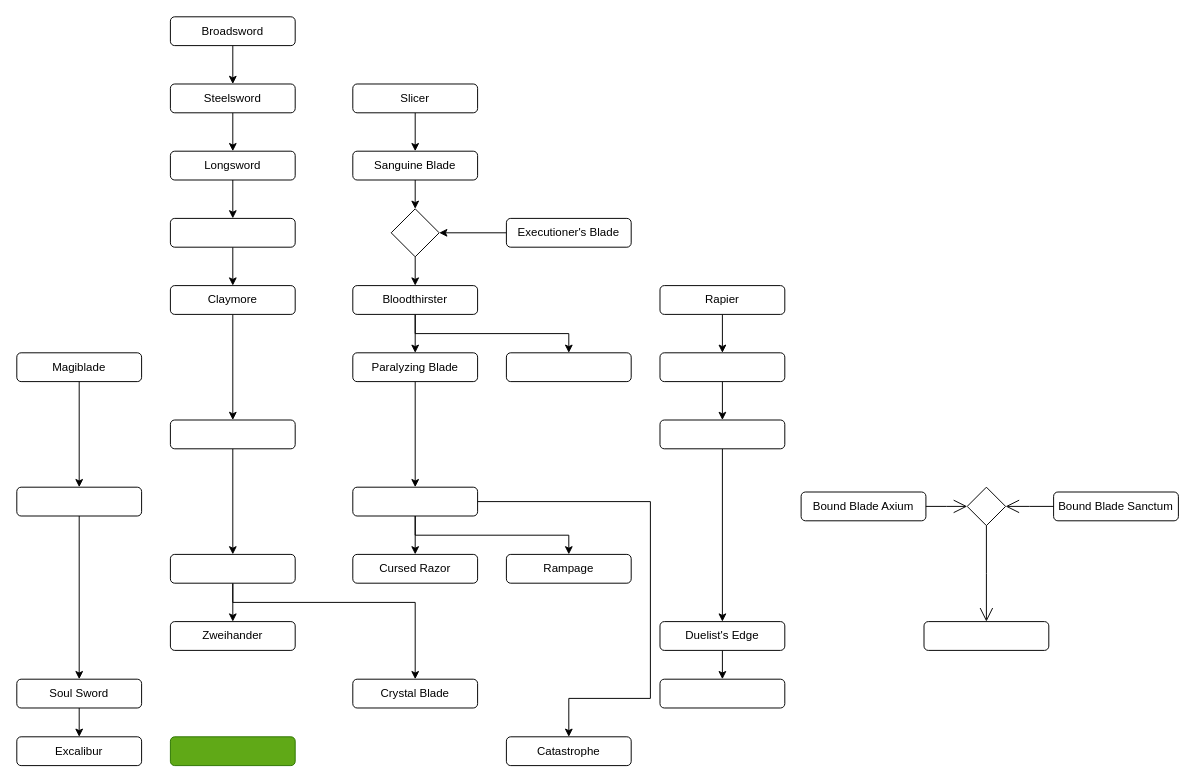
This 1195x782 diagram has some shape labels left out. The box of each missing label's shape, as (x1, y1, x2, y2) in pixels:
Alankhrem: (923, 621, 1049, 650)
Ascalon: (659, 678, 785, 708)
Bastard Sword: (169, 217, 295, 247)
Calamity: (352, 486, 478, 516)
Durandal: (169, 553, 295, 583)
Knight Sword: (169, 419, 295, 449)
Ragnarok: (169, 736, 295, 766)
Refined Blade: (659, 419, 785, 449)
Sharp Fang: (505, 352, 631, 382)
Whistling Blade: (659, 352, 785, 382)
Wizard's Edge: (16, 486, 142, 516)
